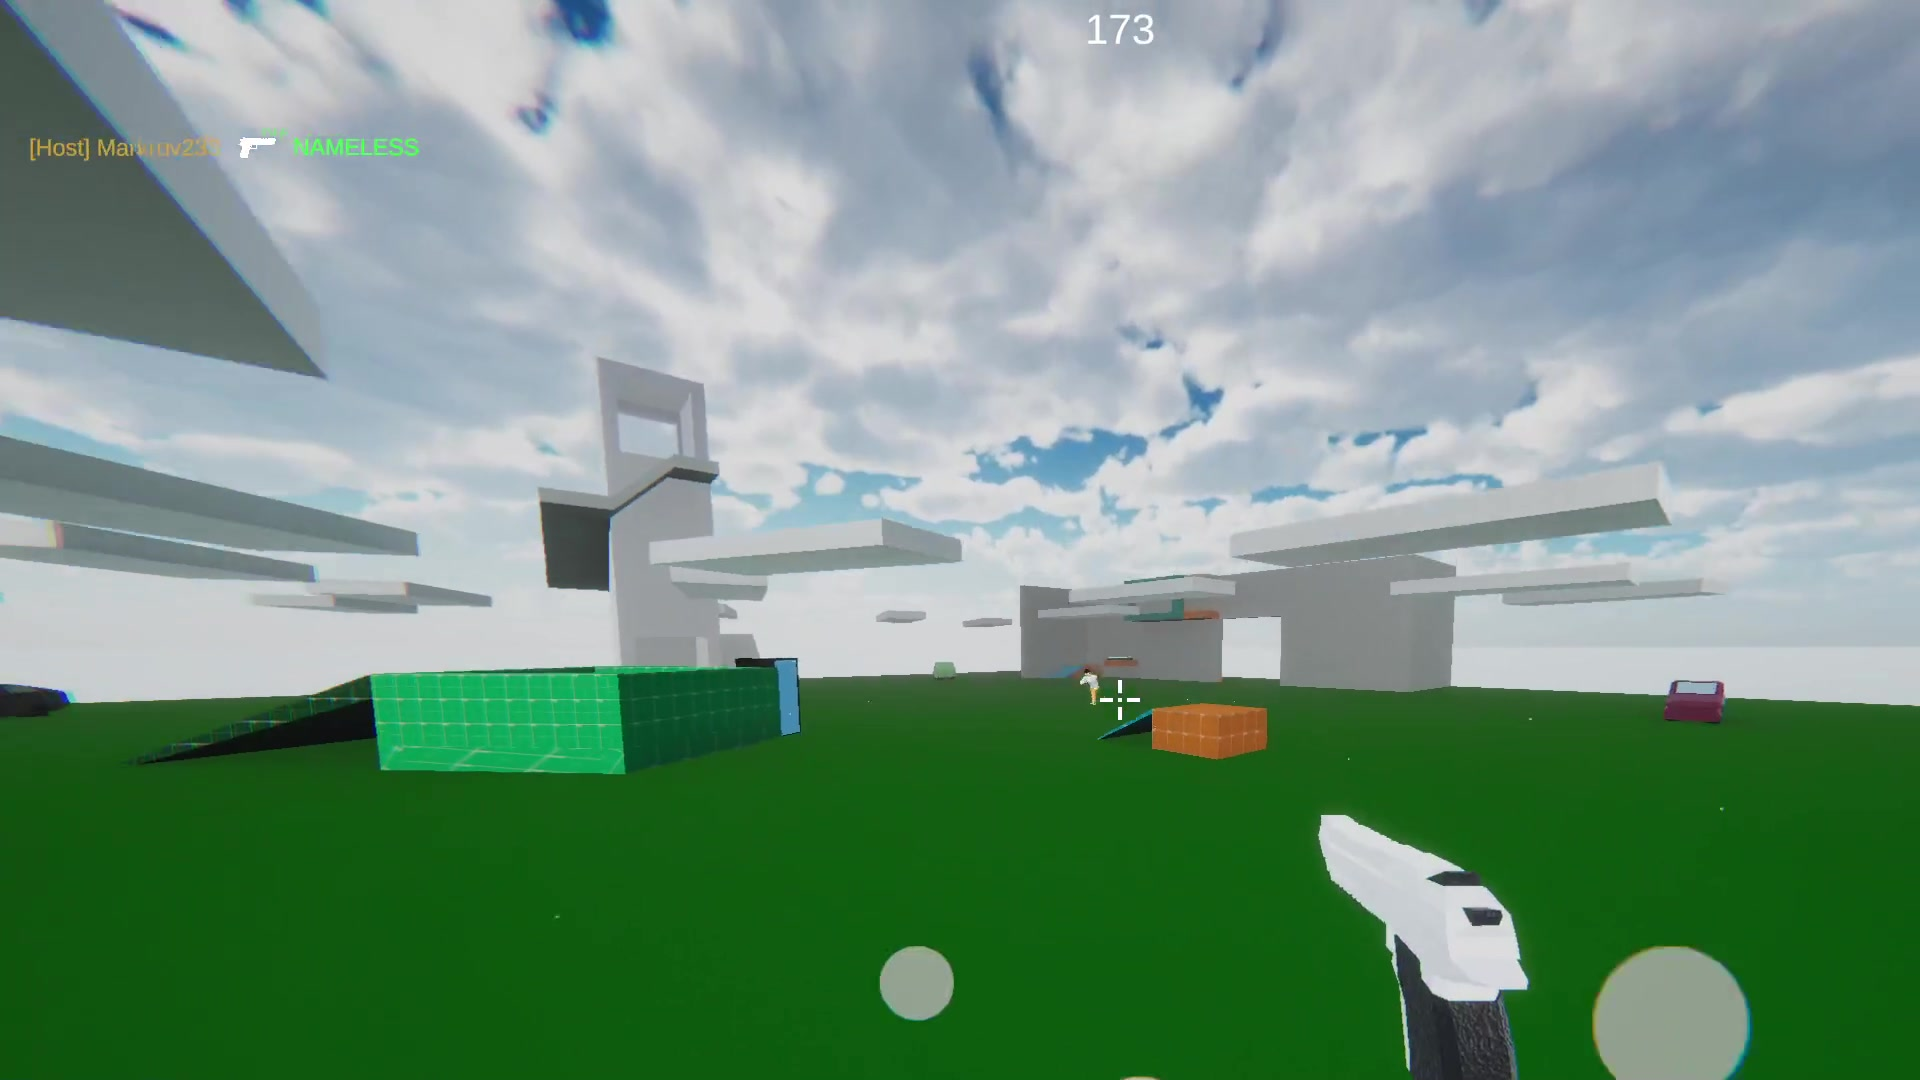human: (1076, 663, 1104, 708)
